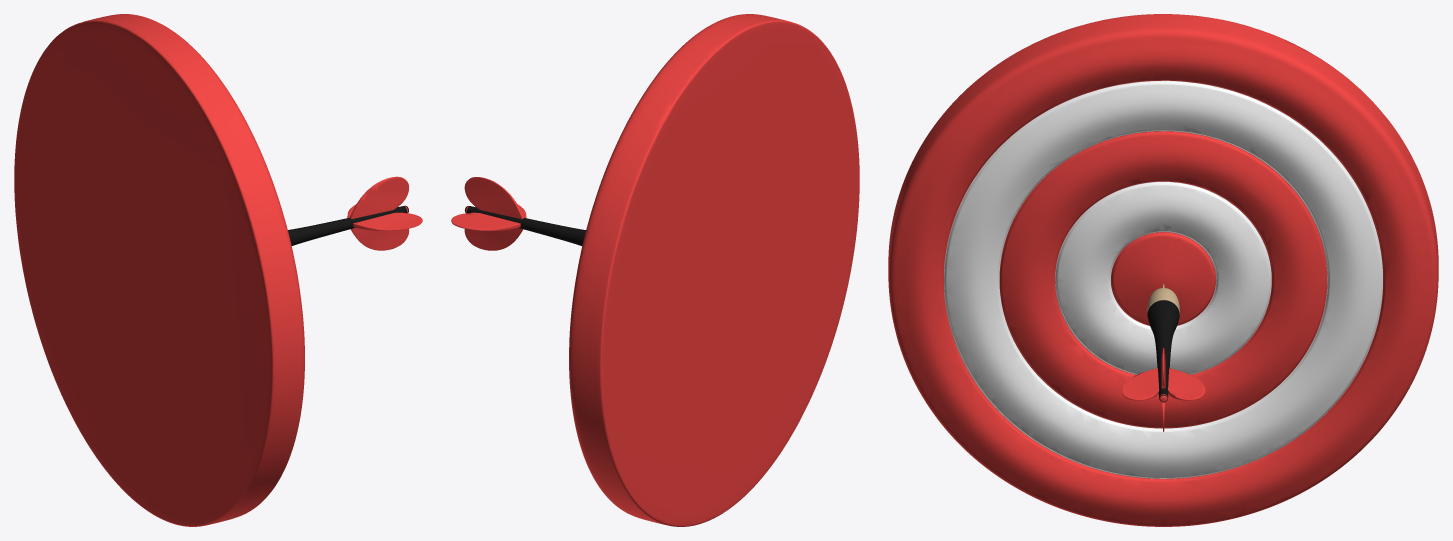
The model's file is game_bar_target_arrow.glb.
The picture shows the model from 3 angles, left to right: view 1: azimuth 30°, elevation 25°; view 2: azimuth 150°, elevation 25°; view 3: azimuth 270°, elevation 25°; orthographic projection. The views are drawn at different scales.
Visible parts, largest first — view 1: Cylinder_arrow red_0, Cylinder.001_Material.002_0; view 2: Cylinder_arrow red_0, Cylinder.001_Material.002_0; view 3: Cylinder_arrow red_0, Cylinder_target white_0, Cylinder.001_Material.002_0.
Part boxes in pixels (<box>): Cylinder_arrow red_0: <box>14,14,422,526</box>; Cylinder.001_Material.002_0: <box>288,205,408,245</box>; Cylinder_arrow red_0: <box>451,14,859,526</box>; Cylinder.001_Material.002_0: <box>465,206,585,245</box>; Cylinder_arrow red_0: <box>888,14,1438,526</box>; Cylinder_target white_0: <box>944,80,1382,478</box>; Cylinder.001_Material.002_0: <box>1147,300,1179,402</box>.
Size of the model in its own units: 1.18 by 1.99 by 1.99.
